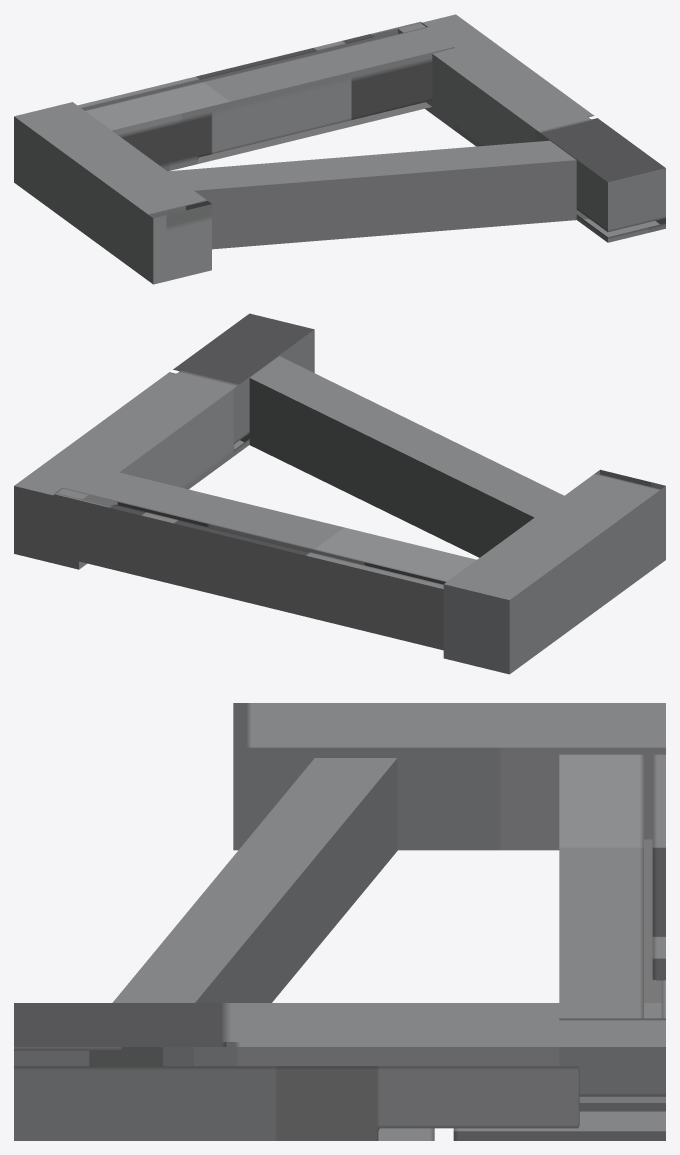
3 renders of one model, top to bottom at view 1: azimuth 30°, elevation 25°; view 2: azimuth 150°, elevation 25°; view 3: azimuth 270°, elevation 25°, orthographic. The views are drawn at different scales.
Bounding box in the file's own units: 0.9606 × 0.1384 × 0.7908.
